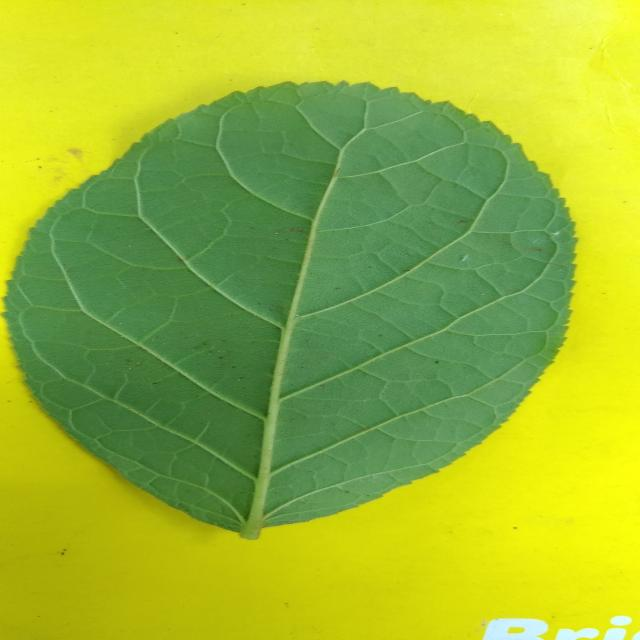padri: (7, 82, 576, 539)
